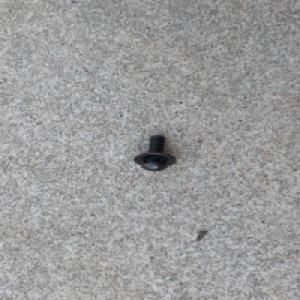BoltWasher: (133, 134, 178, 172)
